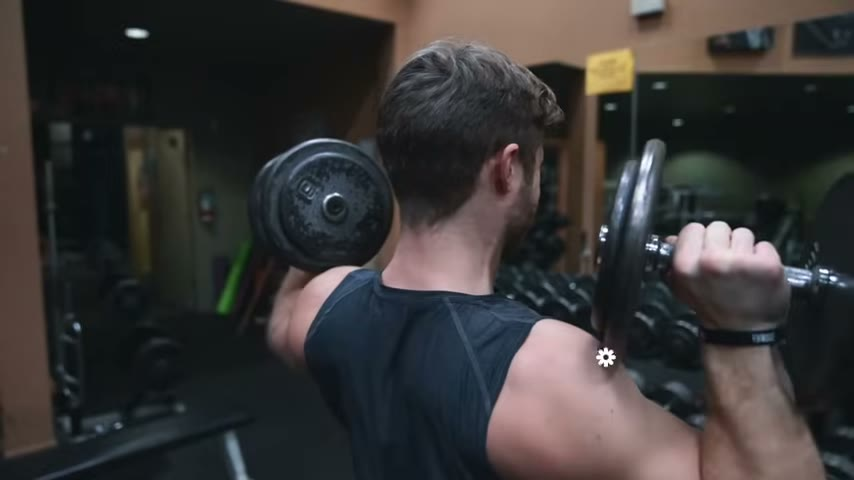barbell_plate_side: (233, 85, 412, 469)
